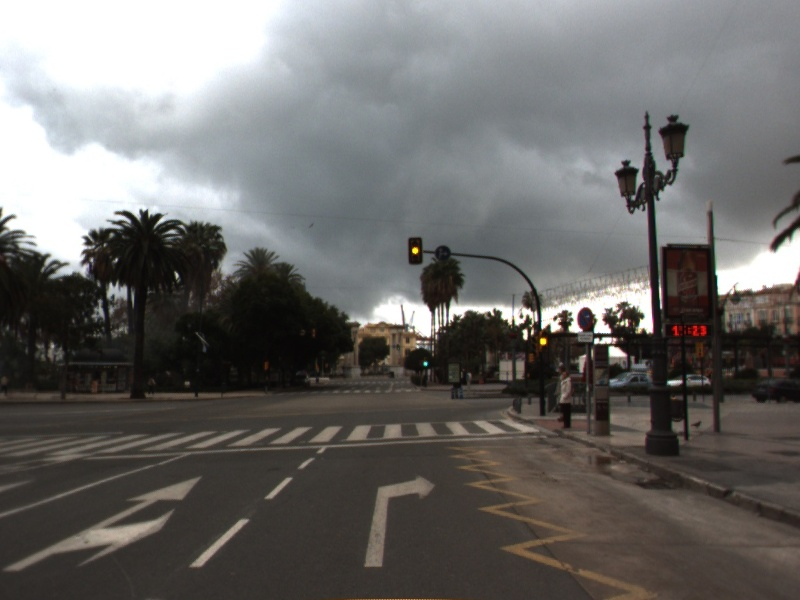RIGHT: (361, 469, 439, 570)
STRAIGHT_RIGHT: (2, 473, 206, 574)
